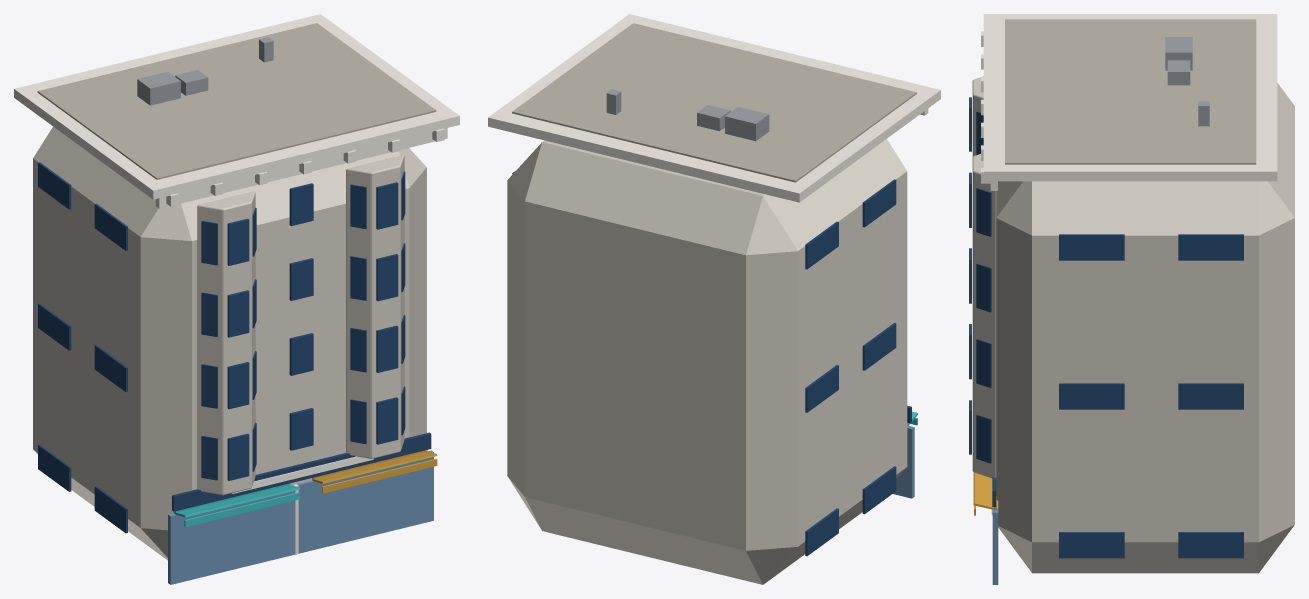
The model's file is mixed_w14_f5_bays.glb.
3 views of the same model, side by side, from view 1: azimuth 30°, elevation 25°; view 2: azimuth 150°, elevation 25°; view 3: azimuth 270°, elevation 25° (orthographic). The views are drawn at different scales.
Parts seen in each view (by area): view 1: walls, roofslab, shopglass, corn, bay.001, bay, fascia, frieze, hvac, bw.002, bw.004, bw.005 (+29 smaller); view 2: walls, roofslab, corn, hvac, sb, sb.004, sb.008, sb.002, sb.010, sb.006, shopglass, hvac2; view 3: walls, roofslab, corn, bay.001, sb.001, sb.003, sb.005, sb.007, sb.009, sb.011, hvac, bwa.009 (+7 smaller).
Part boxes in pixels (<box>): walls: <box>33,126,426,560</box>; roofslab: <box>37,23,436,179</box>; shopglass: <box>168,450,433,584</box>; corn: <box>14,14,459,199</box>; bay.001: <box>346,155,404,458</box>; bay: <box>197,191,255,495</box>; fascia: <box>172,432,431,511</box>; frieze: <box>155,128,447,208</box>; hvac: <box>137,71,180,105</box>; bw.002: <box>227,290,249,337</box>; bw.004: <box>376,397,398,444</box>; bw.005: <box>376,325,398,372</box>; walls: <box>507,139,907,584</box>; roofslab: <box>512,23,916,182</box>; corn: <box>488,14,940,202</box>; hvac: <box>725,106,769,141</box>; sb: <box>862,466,896,514</box>; sb.004: <box>862,323,896,370</box>; sb.008: <box>862,179,896,227</box>; sb.002: <box>805,508,838,556</box>; sb.010: <box>805,221,838,269</box>; sb.006: <box>805,365,838,412</box>; shopglass: <box>893,426,914,498</box>; hvac2: <box>697,105,730,131</box>; walls: <box>996,83,1294,573</box>; roofslab: <box>1005,19,1256,164</box>; corn: <box>983,14,1277,181</box>; bay.001: <box>972,154,996,478</box>; sb.001: <box>1059,532,1124,558</box>; sb.003: <box>1178,532,1243,558</box>; sb.005: <box>1059,383,1124,409</box>; sb.007: <box>1178,383,1243,409</box>; sb.009: <box>1059,234,1124,260</box>; sb.011: <box>1178,234,1243,260</box>; hvac: <box>1165,37,1192,70</box>; bwa.009: <box>976,414,991,463</box>.
Size of the model in its own units: 15 by 19.8 by 13.09.
